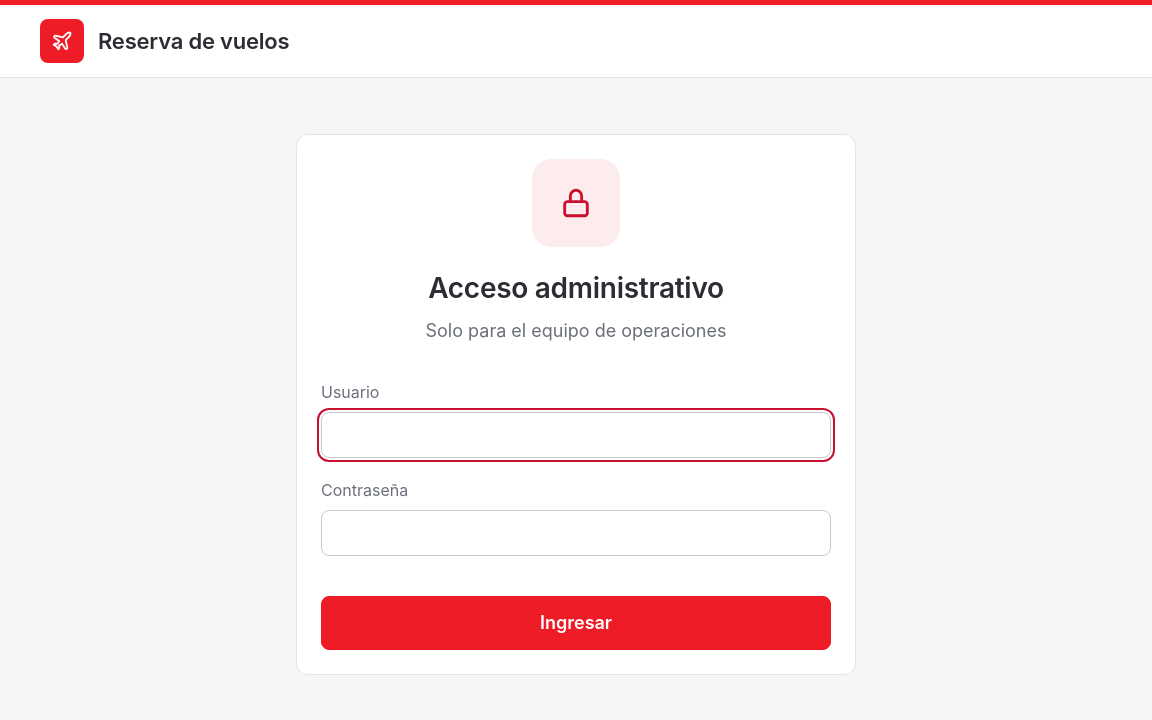
Test case: the guard and where you land after signing in › returns to a screen with parameters too
The width and height of the screenshot is (1152, 720).
In the field labelled "Usuario": [576, 435] box [321, 412, 831, 458], type "admin"
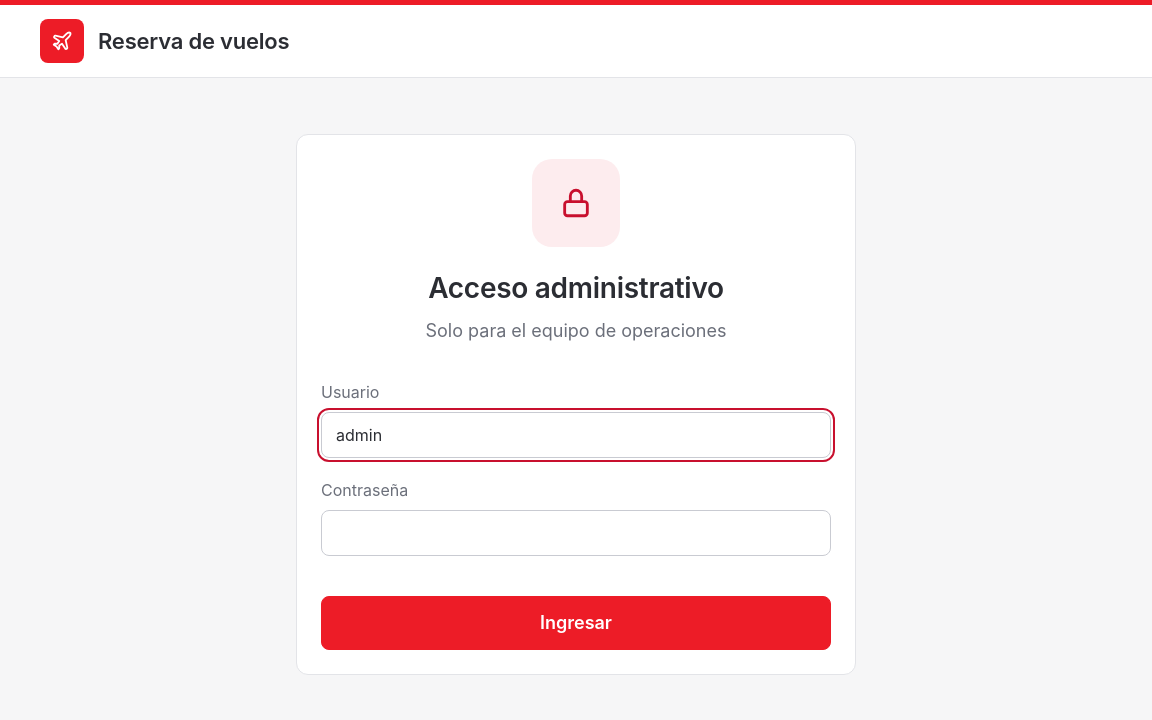
In the password field labelled "Contraseña": [576, 533] box [321, 510, 831, 556], type "admin"
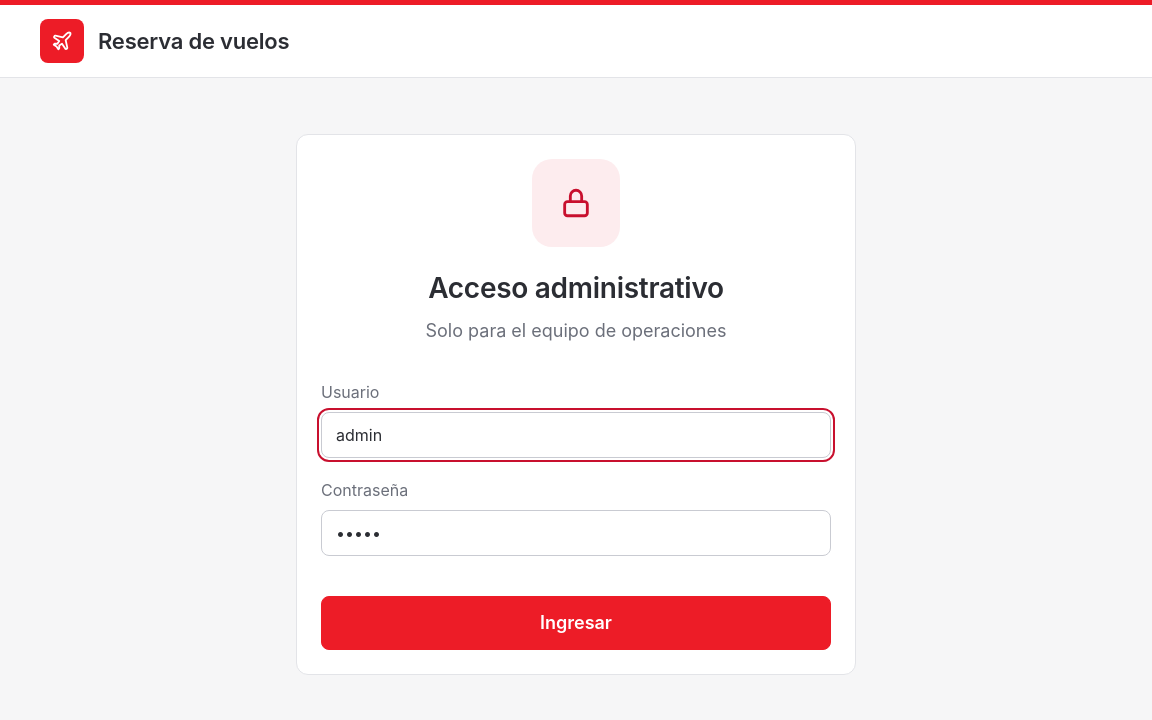
Click the button "Ingresar": [576, 623] box [321, 596, 831, 650]
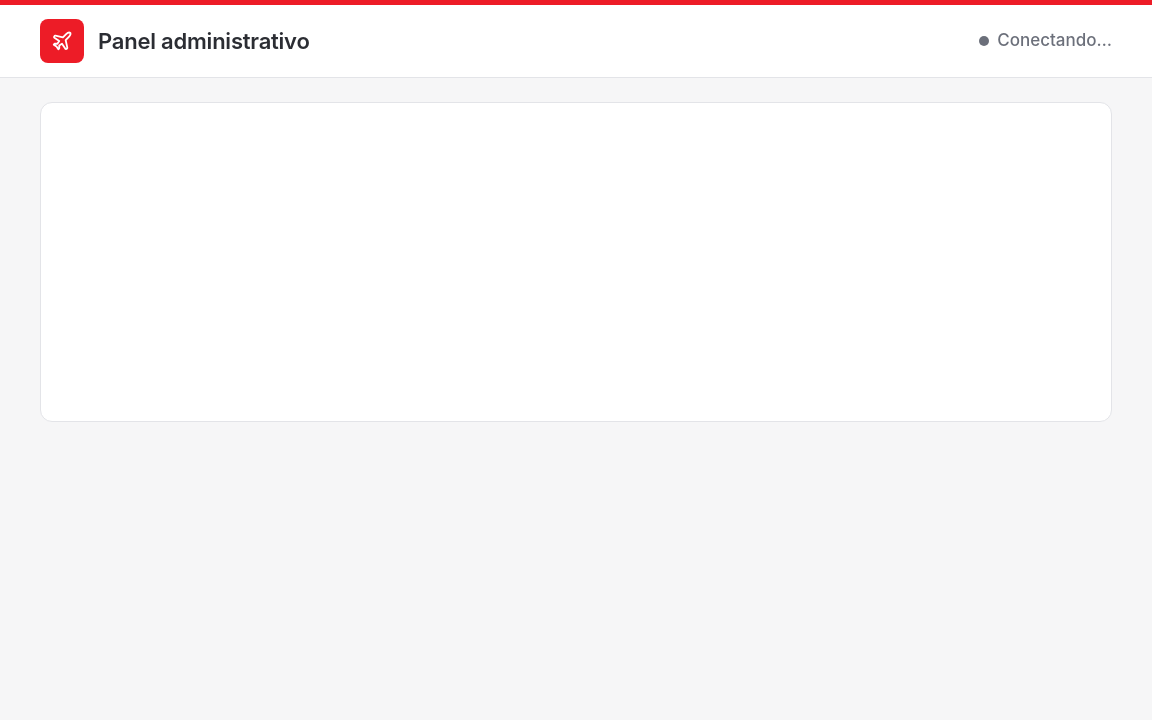
Check: the message named "Cargando el dashboard…" is shown, box [40, 102, 1112, 422]
